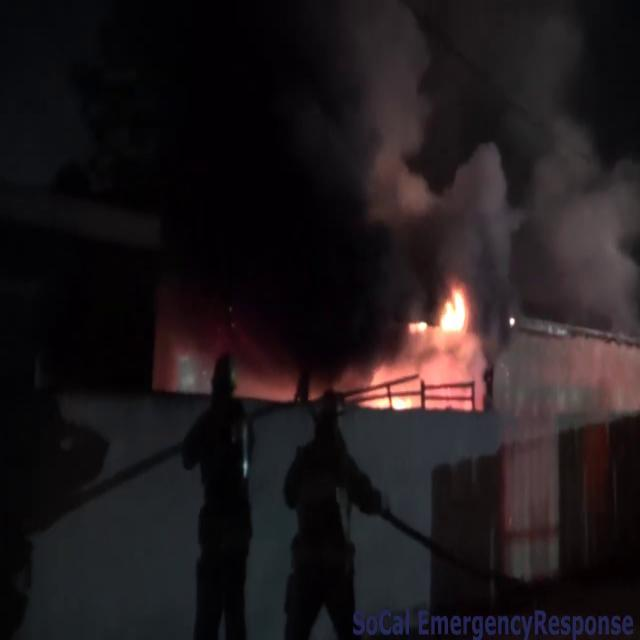Fire: (364, 280, 476, 408), (433, 280, 473, 351)
Smoke: (285, 1, 640, 351)
